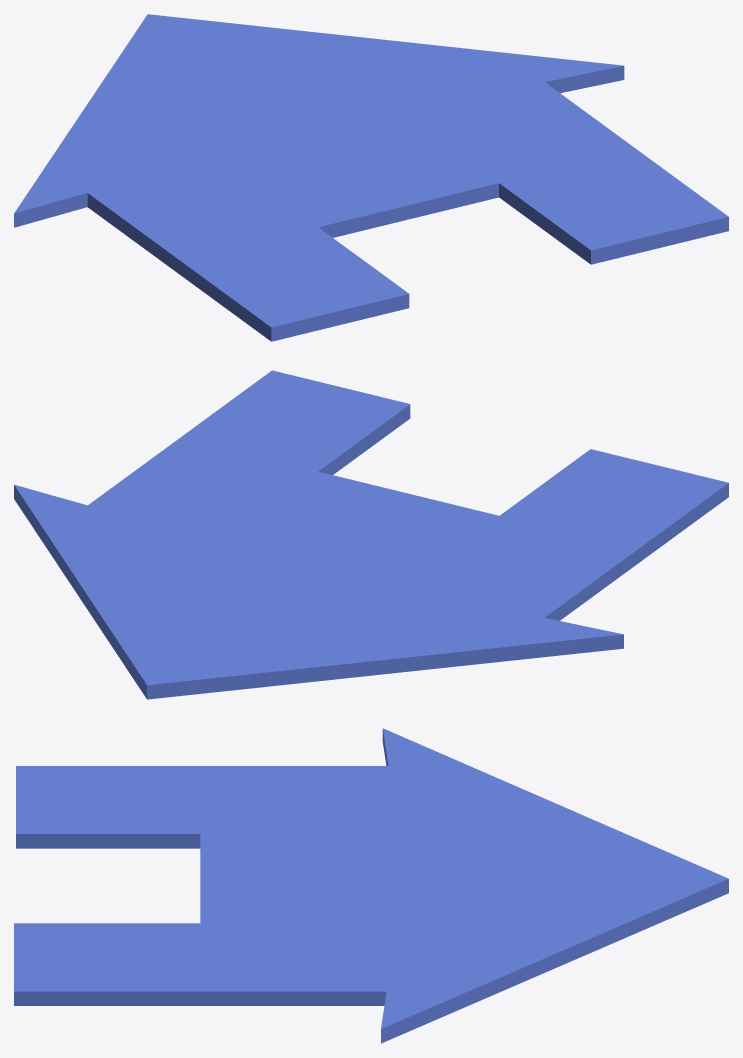
File: House Cutout.fbx
The picture shows the model from 3 angles, top to bottom: view 1: azimuth 30°, elevation 25°; view 2: azimuth 150°, elevation 25°; view 3: azimuth 270°, elevation 25°; orthographic projection.
Parts seen in each view (by area): view 1: House Cutout; view 2: House Cutout; view 3: House Cutout.
Part boxes in pixels (box(x1,y1,x2,y2)): House Cutout: box(14, 14, 728, 341); House Cutout: box(14, 370, 728, 699); House Cutout: box(14, 728, 728, 1043).
Size of the model in its own units: 7.65 by 0.1712 by 7.68.
